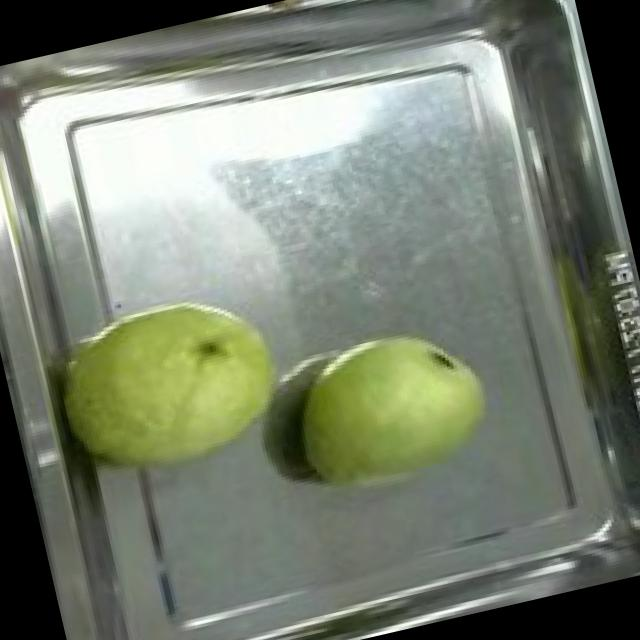Fruit: (34, 266, 310, 502), (272, 304, 510, 510)
